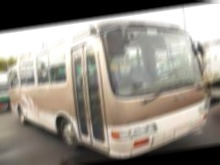bus: (1, 10, 217, 165), (0, 71, 13, 113)
